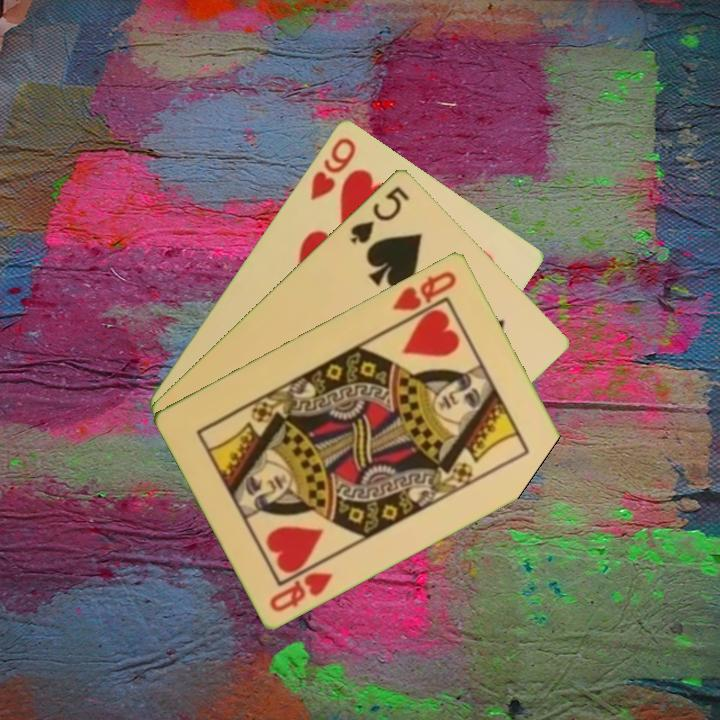5s: (346, 182, 413, 247)
9h: (306, 133, 359, 203)
Qh: (389, 267, 460, 314), (266, 568, 337, 615)
